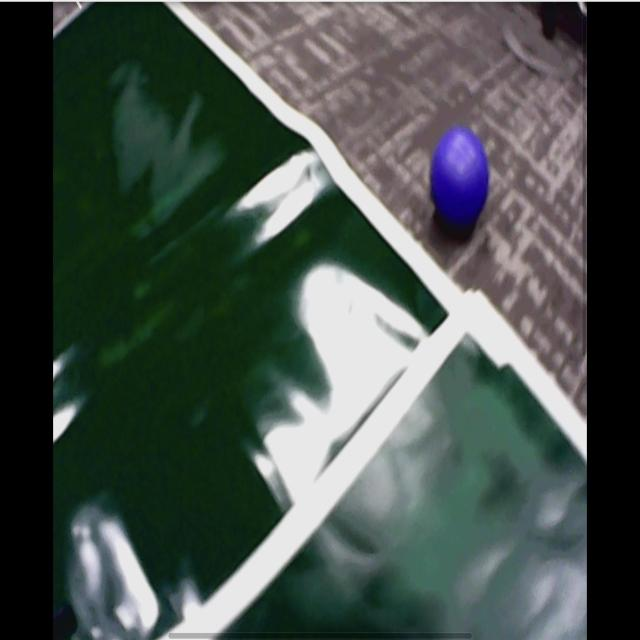ball: (430, 128, 490, 228)
